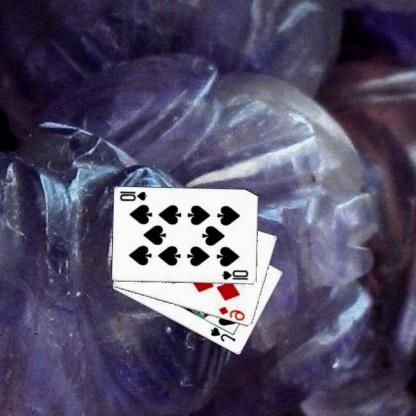10S: (119, 189, 150, 203), (221, 268, 251, 282)
9D: (218, 304, 248, 322)
JS: (210, 325, 239, 343)
